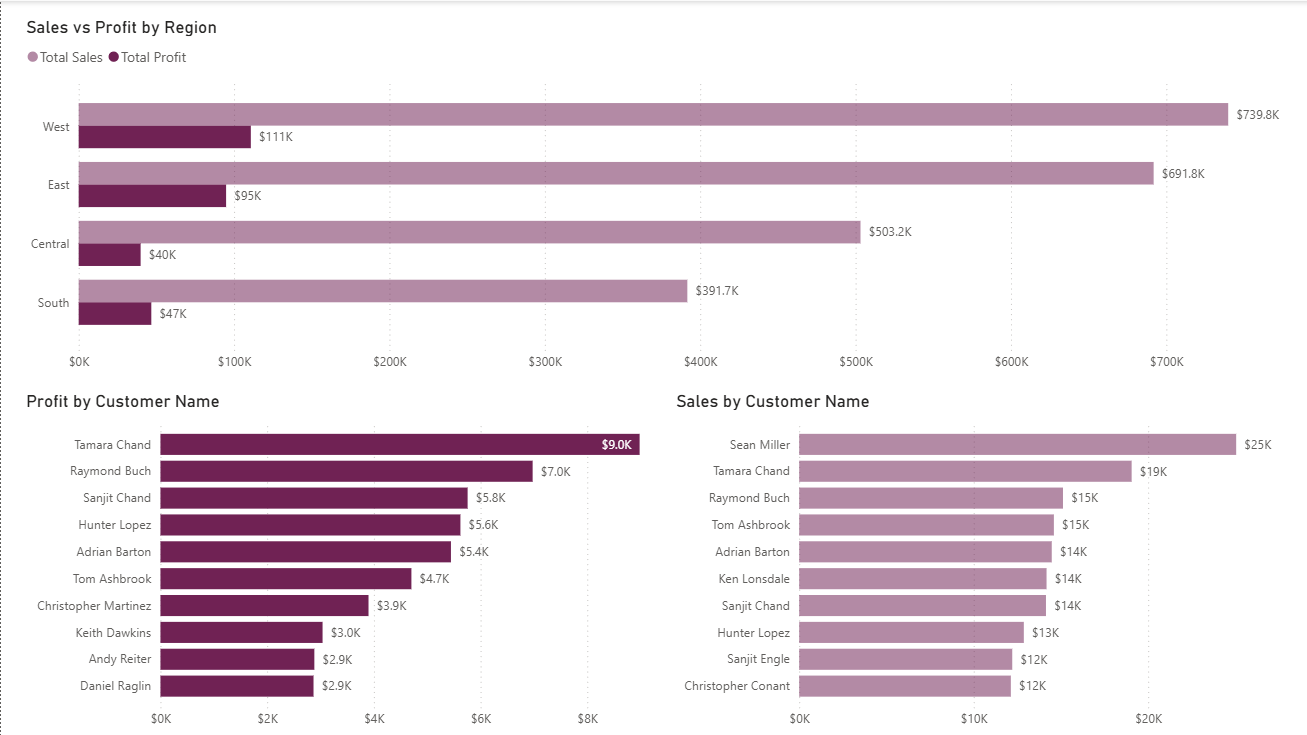

The page's visual inventory and layout, read from the dashboard file:
{"tool":"powerbi","page":{"name":"Customer & Region Analysis","canvas":[1280,720],"ordinal":2},"visuals":[{"type":"clusteredBarChart","title":"Sales vs Profit by Region","fields":{"Y":["Superstore.Total Sales","Superstore.Total Profit"],"Category":["Superstore.Region"]},"box":[9.8,0,1270.5,370.5],"z":0},{"type":"clusteredBarChart","title":"Profit by Customer Name","fields":{"Y":["Superstore.Total Profit"],"Category":["Superstore.Customer Name"]},"box":[9.8,370.5,629.8,349.7],"z":1},{"type":"clusteredBarChart","title":"Sales by Customer Name","fields":{"Category":["Superstore.Customer Name"],"Y":["Superstore.Total Sales"]},"box":[645.7,370.5,634.7,349.7],"z":2}]}

Visuals, with their boxes in screenshot pixels (x1, y1, x2, y2), scaled from the page's 1280x720 canvas onto the 1307x735 screenshot:
"Sales vs Profit by Region" clusteredBarChart: left=10, top=0, right=1306, bottom=378
"Profit by Customer Name" clusteredBarChart: left=10, top=378, right=653, bottom=734
"Sales by Customer Name" clusteredBarChart: left=659, top=378, right=1306, bottom=734
